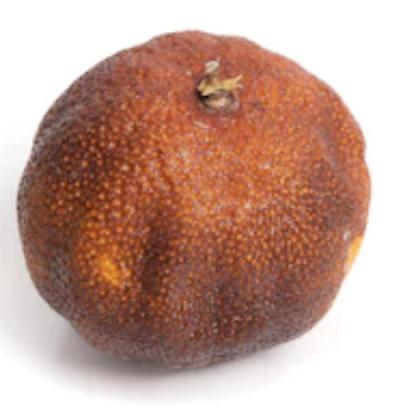rotten: (22, 29, 372, 370)
